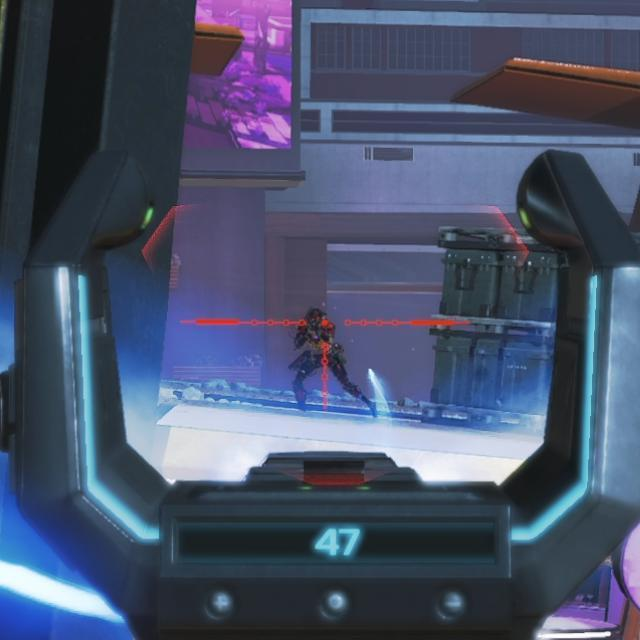avatar: (286, 306, 350, 413)
